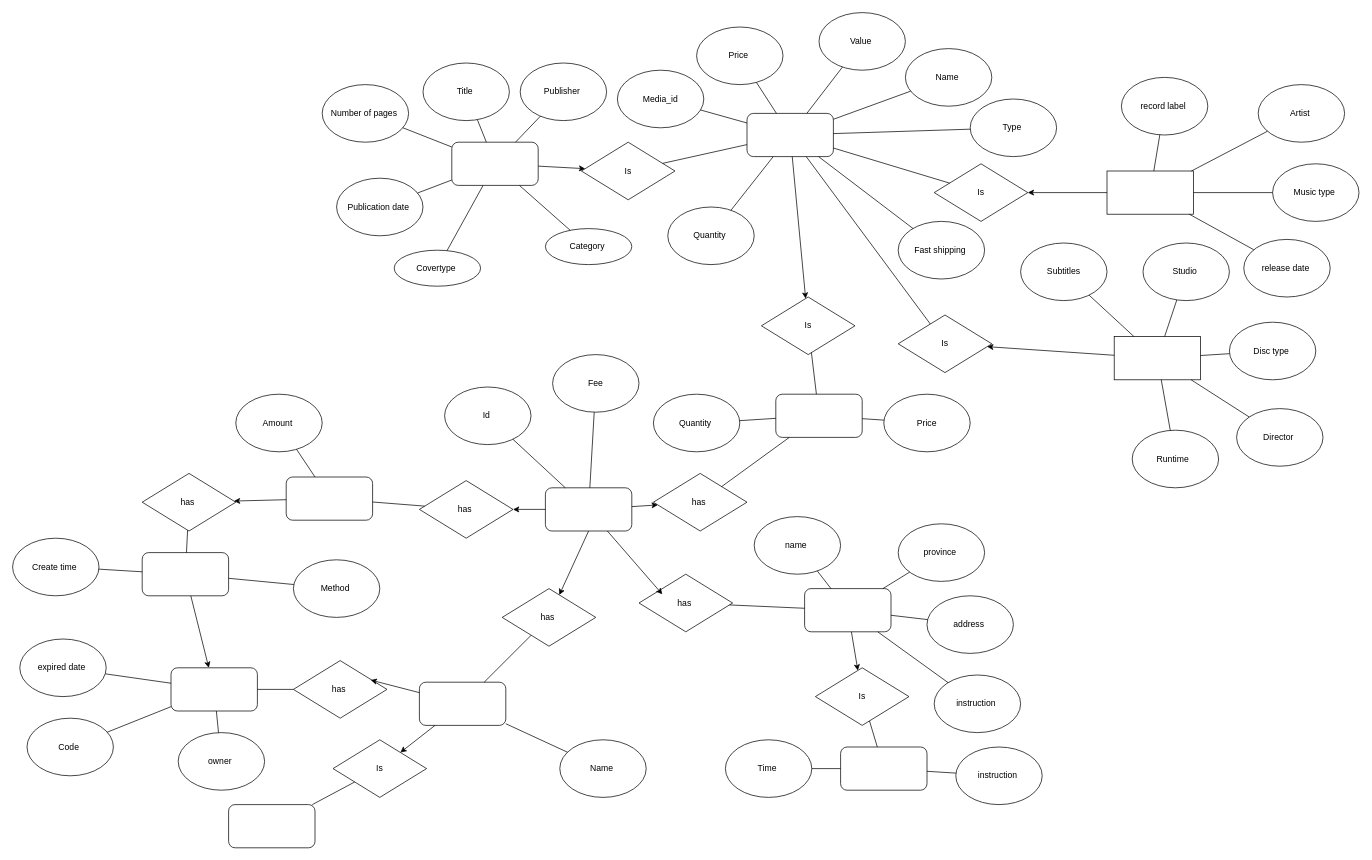
This 1372x860 diagram has some shape labels left out. Here are the shapes that lost their labels. From the top down, the centre of each, then its label:
point (789, 135): Media
point (494, 163): Book
point (1149, 192): CD
point (1157, 358): DVD
point (818, 415): Order Media
point (329, 498): Invoice
point (588, 509): Order
point (185, 574): Payment Transaction
point (847, 610): Delivery Info
point (213, 689): Card
point (462, 703): User
point (883, 768): rush delivery Info
point (271, 826): Admin
